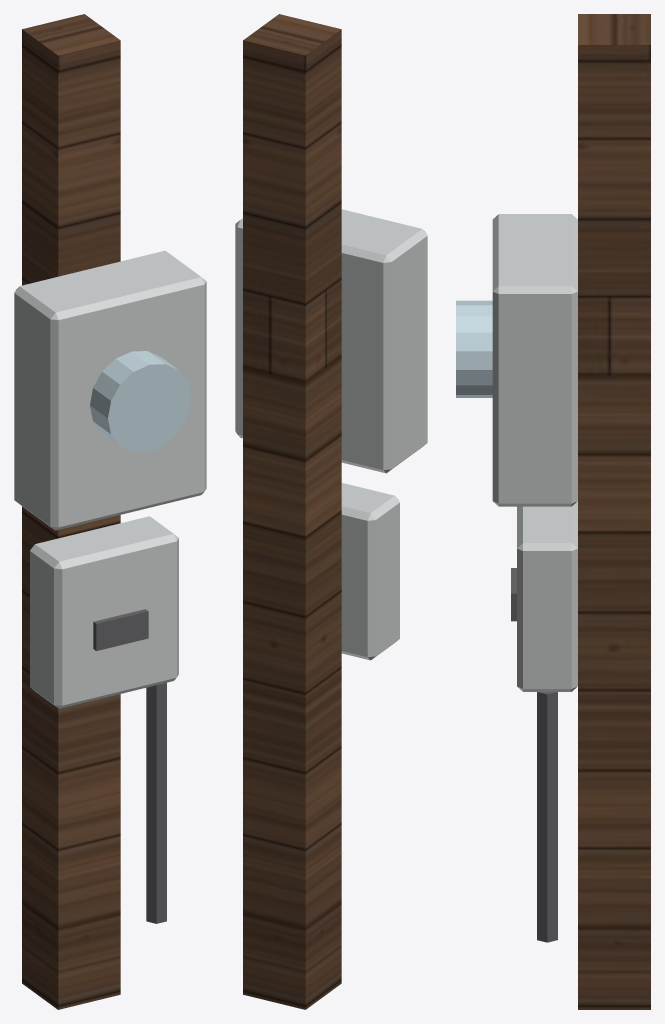
The model's file is power_post.glb.
3 renders of one model, left to right at view 1: azimuth 30°, elevation 25°; view 2: azimuth 150°, elevation 25°; view 3: azimuth 270°, elevation 25°, orthographic.
Parts seen in each view (by area): view 1: power_post_galv, power_post_dkwood, power_post_glass, power_post_dark; view 2: power_post_dkwood, power_post_galv; view 3: power_post_dkwood, power_post_galv, power_post_dark, power_post_glass.
Part boxes in pixels (bbox=[...]): power_post_galv: bbox=[14, 250, 206, 708]; power_post_dkwood: bbox=[22, 14, 120, 1009]; power_post_glass: bbox=[90, 351, 191, 452]; power_post_dark: bbox=[93, 609, 166, 923]; power_post_dkwood: bbox=[243, 14, 341, 1009]; power_post_galv: bbox=[235, 209, 427, 660]; power_post_dkwood: bbox=[578, 14, 650, 1009]; power_post_galv: bbox=[492, 214, 577, 691]; power_post_dark: bbox=[511, 568, 557, 942]; power_post_glass: bbox=[456, 300, 492, 397].
Bounding box in the file's own units: 0.3 × 1.75 × 0.32.
Materials: 4 (1 with a texture image).
